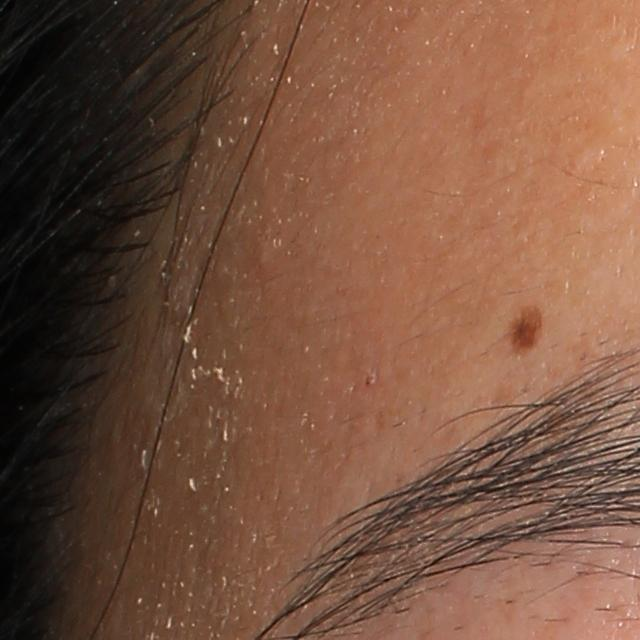nevus: (502, 302, 547, 366)
